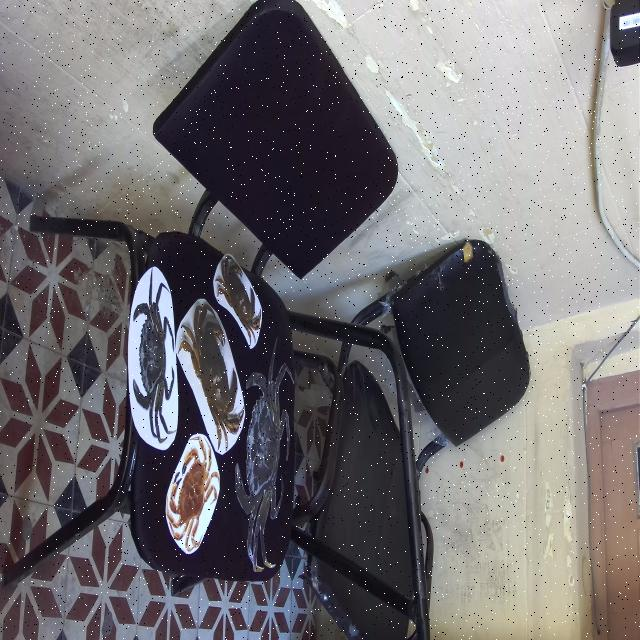European_Green_Crab: (224, 328, 302, 579), (129, 265, 178, 447)
